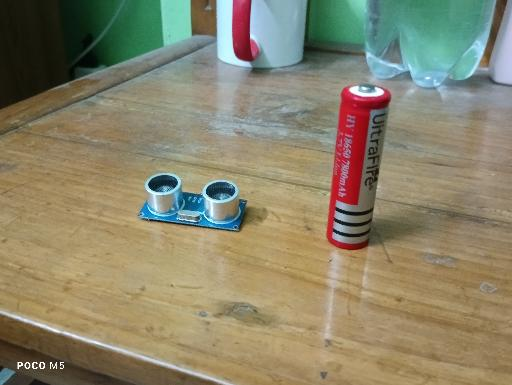Battery: (326, 84, 392, 250)
sensor: (137, 172, 248, 233)
